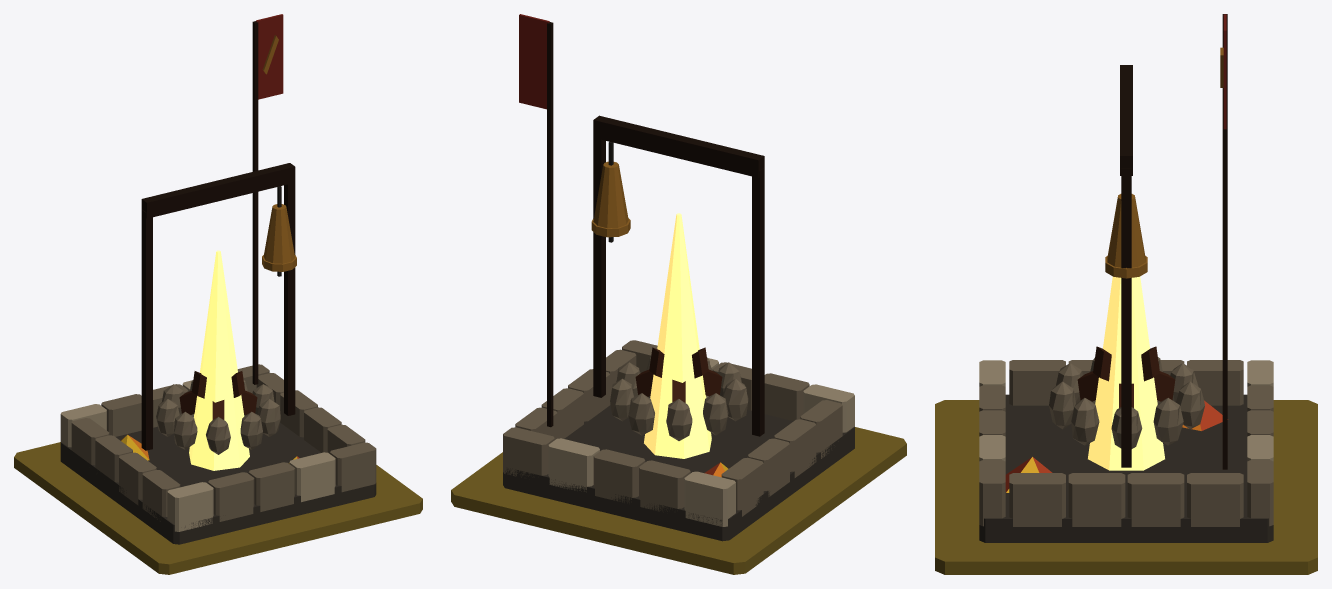
The model's file is watchfire_t5.glb.
The picture shows the model from 3 angles, left to right: view 1: azimuth 30°, elevation 25°; view 2: azimuth 150°, elevation 25°; view 3: azimuth 270°, elevation 25°; orthographic projection. The views are drawn at different scales.
Visible parts, largest first — view 1: MMR | watchfire | T05 Architecture.001, MMR | watchfire | Tier 05 Ground.001, MMR | watchfire | T05 Flame Glow.001, MMR | watchfire | T05 Banner Flag 1.001; view 2: MMR | watchfire | T05 Architecture.001, MMR | watchfire | Tier 05 Ground.001, MMR | watchfire | T05 Flame Glow.001, MMR | watchfire | T05 Banner Flag 1.001; view 3: MMR | watchfire | T05 Architecture.001, MMR | watchfire | Tier 05 Ground.001, MMR | watchfire | T05 Flame Glow.001, MMR | watchfire | T05 Autumn Dressing.001.
Part boxes in pixels (x1,y1,x2,y2): MMR | watchfire | T05 Architecture.001: [60, 21, 376, 544]; MMR | watchfire | Tier 05 Ground.001: [14, 442, 422, 574]; MMR | watchfire | T05 Flame Glow.001: [189, 250, 249, 470]; MMR | watchfire | T05 Banner Flag 1.001: [256, 14, 283, 99]; MMR | watchfire | T05 Architecture.001: [503, 22, 854, 541]; MMR | watchfire | Tier 05 Ground.001: [451, 427, 906, 574]; MMR | watchfire | T05 Flame Glow.001: [644, 213, 711, 458]; MMR | watchfire | T05 Banner Flag 1.001: [519, 14, 549, 109]; MMR | watchfire | T05 Architecture.001: [979, 14, 1273, 542]; MMR | watchfire | Tier 05 Ground.001: [935, 400, 1317, 574]; MMR | watchfire | T05 Flame Glow.001: [1088, 276, 1164, 470]; MMR | watchfire | T05 Autumn Dressing.001: [1005, 400, 1227, 492].
Bounding box in the file's own units: 1.3 × 1.97 × 1.3.
Materials: 2 (1 with a texture image).
